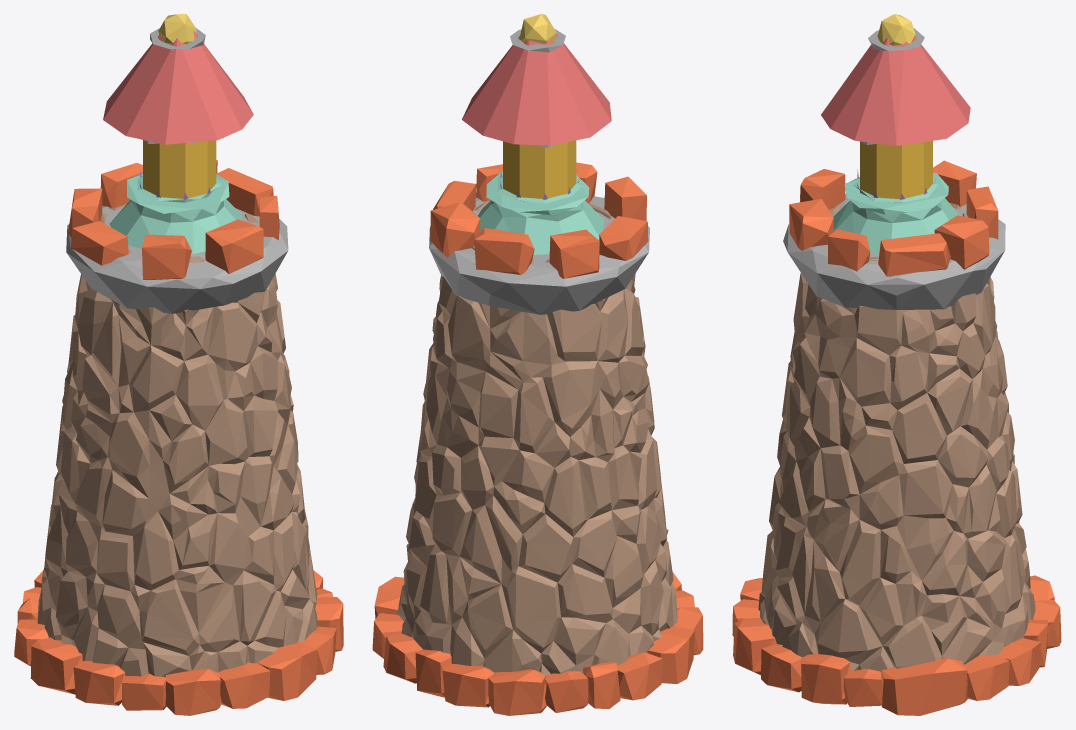
Rendered from faro.fbx.
3 views of the same model, side by side, from view 1: azimuth 30°, elevation 25°; view 2: azimuth 150°, elevation 25°; view 3: azimuth 270°, elevation 25° (orthographic).
Visible parts, largest first — view 1: Icosphere; view 2: Icosphere; view 3: Icosphere.
Part boxes in pixels (left/top/right/bottom): Icosphere: left=14, top=14, right=343, bottom=715; Icosphere: left=372, top=14, right=703, bottom=715; Icosphere: left=732, top=14, right=1061, bottom=715.
Bounding box in the file's own units: 97.87 × 96.89 × 208.
